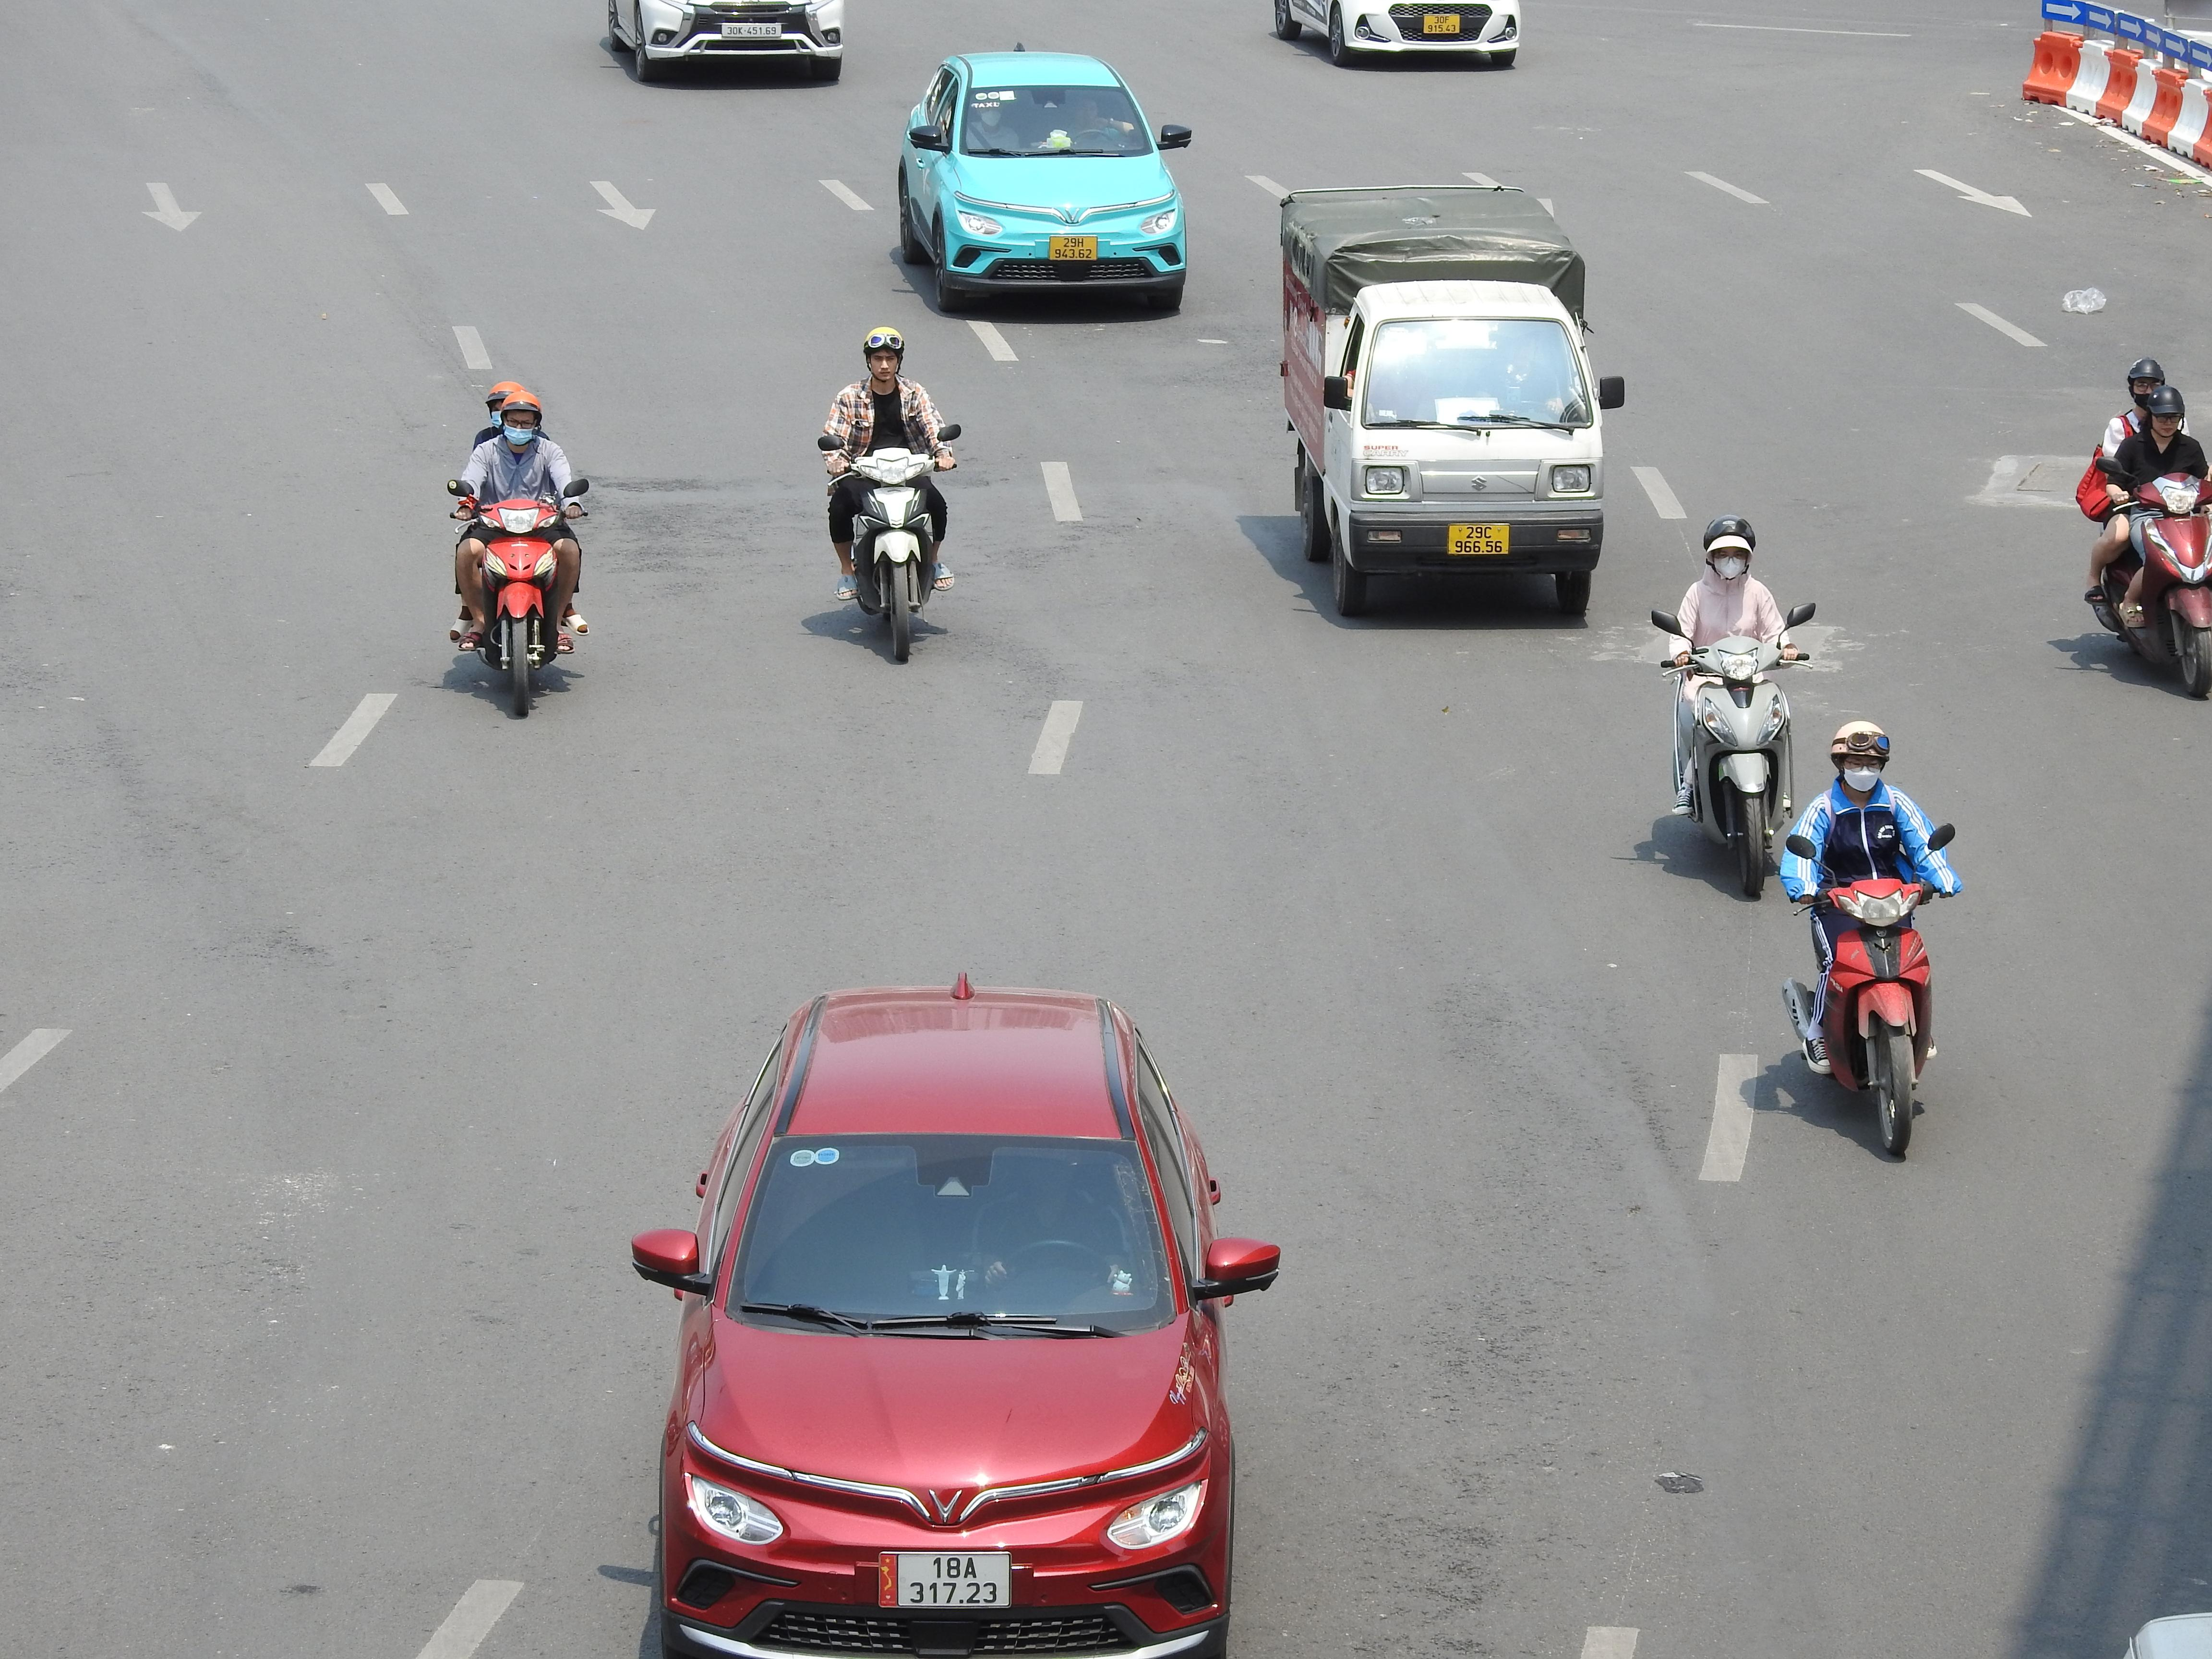BSD: (721, 24, 782, 38)
BSV: (892, 1551, 1014, 1610), (1447, 523, 1508, 556), (1049, 235, 1097, 260), (1423, 14, 1460, 33)
car: (629, 974, 1280, 1657), (892, 49, 1191, 319)
motorbike: (1782, 720, 1959, 1162), (1655, 514, 1813, 903), (448, 380, 589, 720), (2080, 359, 2212, 702), (822, 328, 956, 666)
truck: (1271, 176, 1625, 622)
